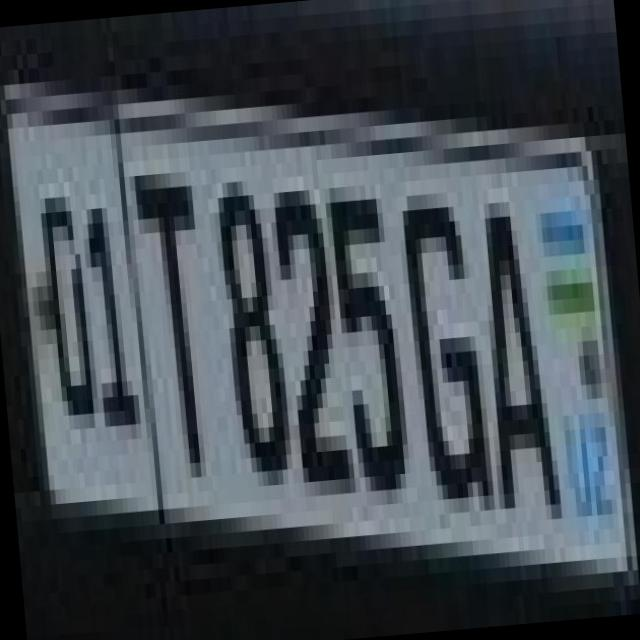1: (62, 162, 139, 414)
2: (254, 145, 344, 484)
5: (318, 169, 404, 479)
8: (193, 150, 282, 474)
A: (455, 170, 566, 510)
D: (16, 166, 94, 418)
G: (383, 161, 494, 502)
T: (122, 141, 214, 452)
